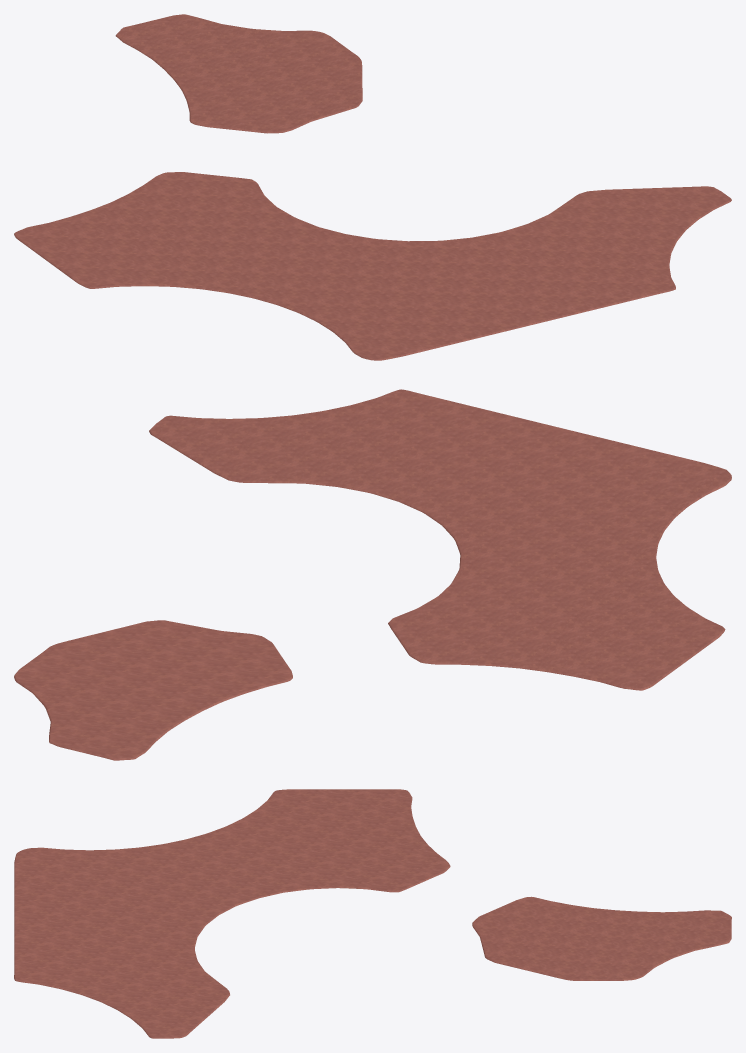
The model's file is obj_ground02.gltf.
3 renders of one model, top to bottom at view 1: azimuth 30°, elevation 25°; view 2: azimuth 150°, elevation 25°; view 3: azimuth 270°, elevation 25°, orthographic. The views are drawn at different scales.
Visible parts, largest first — view 1: obj_ground02; view 2: obj_ground02; view 3: obj_ground02.
Boxes of the visible parts, x1=… form: obj_ground02: x1=14, y1=14, x2=731, y2=360; obj_ground02: x1=14, y1=389, x2=731, y2=760; obj_ground02: x1=14, y1=789, x2=731, y2=1038.
Size of what is drawn, in the model's own units: 47.29 by 0.1228 by 57.69.
Materials: 1 (1 with a texture image).
